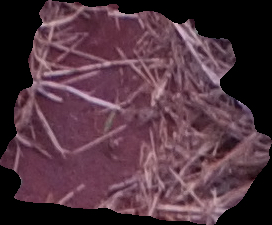soil: (3, 2, 272, 222)
